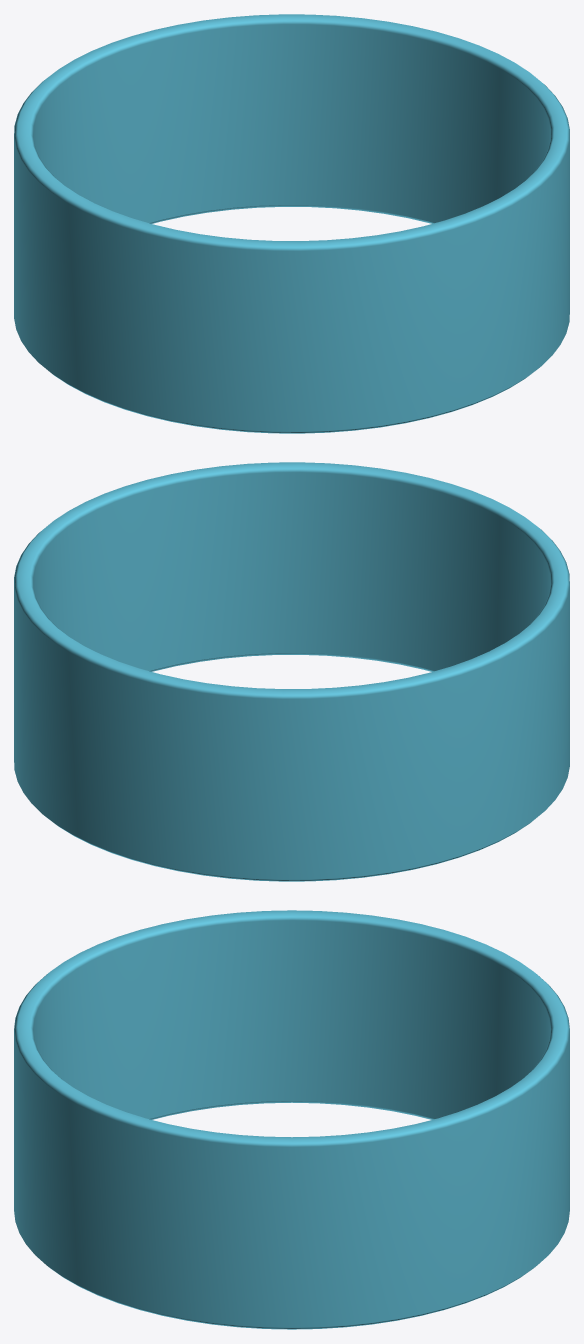
3 views of the same model, one above another, from view 1: azimuth 30°, elevation 25°; view 2: azimuth 150°, elevation 25°; view 3: azimuth 270°, elevation 25° (orthographic).
Parts seen in each view (by area): view 1: seal_body; view 2: seal_body; view 3: seal_body.
Part boxes in pixels (x1,y1,x2,y2): seal_body: (14,14,569,433); seal_body: (14,462,569,881); seal_body: (14,910,569,1329).
Size of the model in its own units: 0.043 by 0.016 by 0.043.
